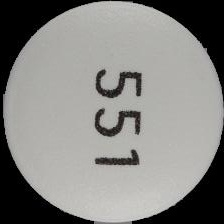55289-150: (0, 0, 224, 224)
